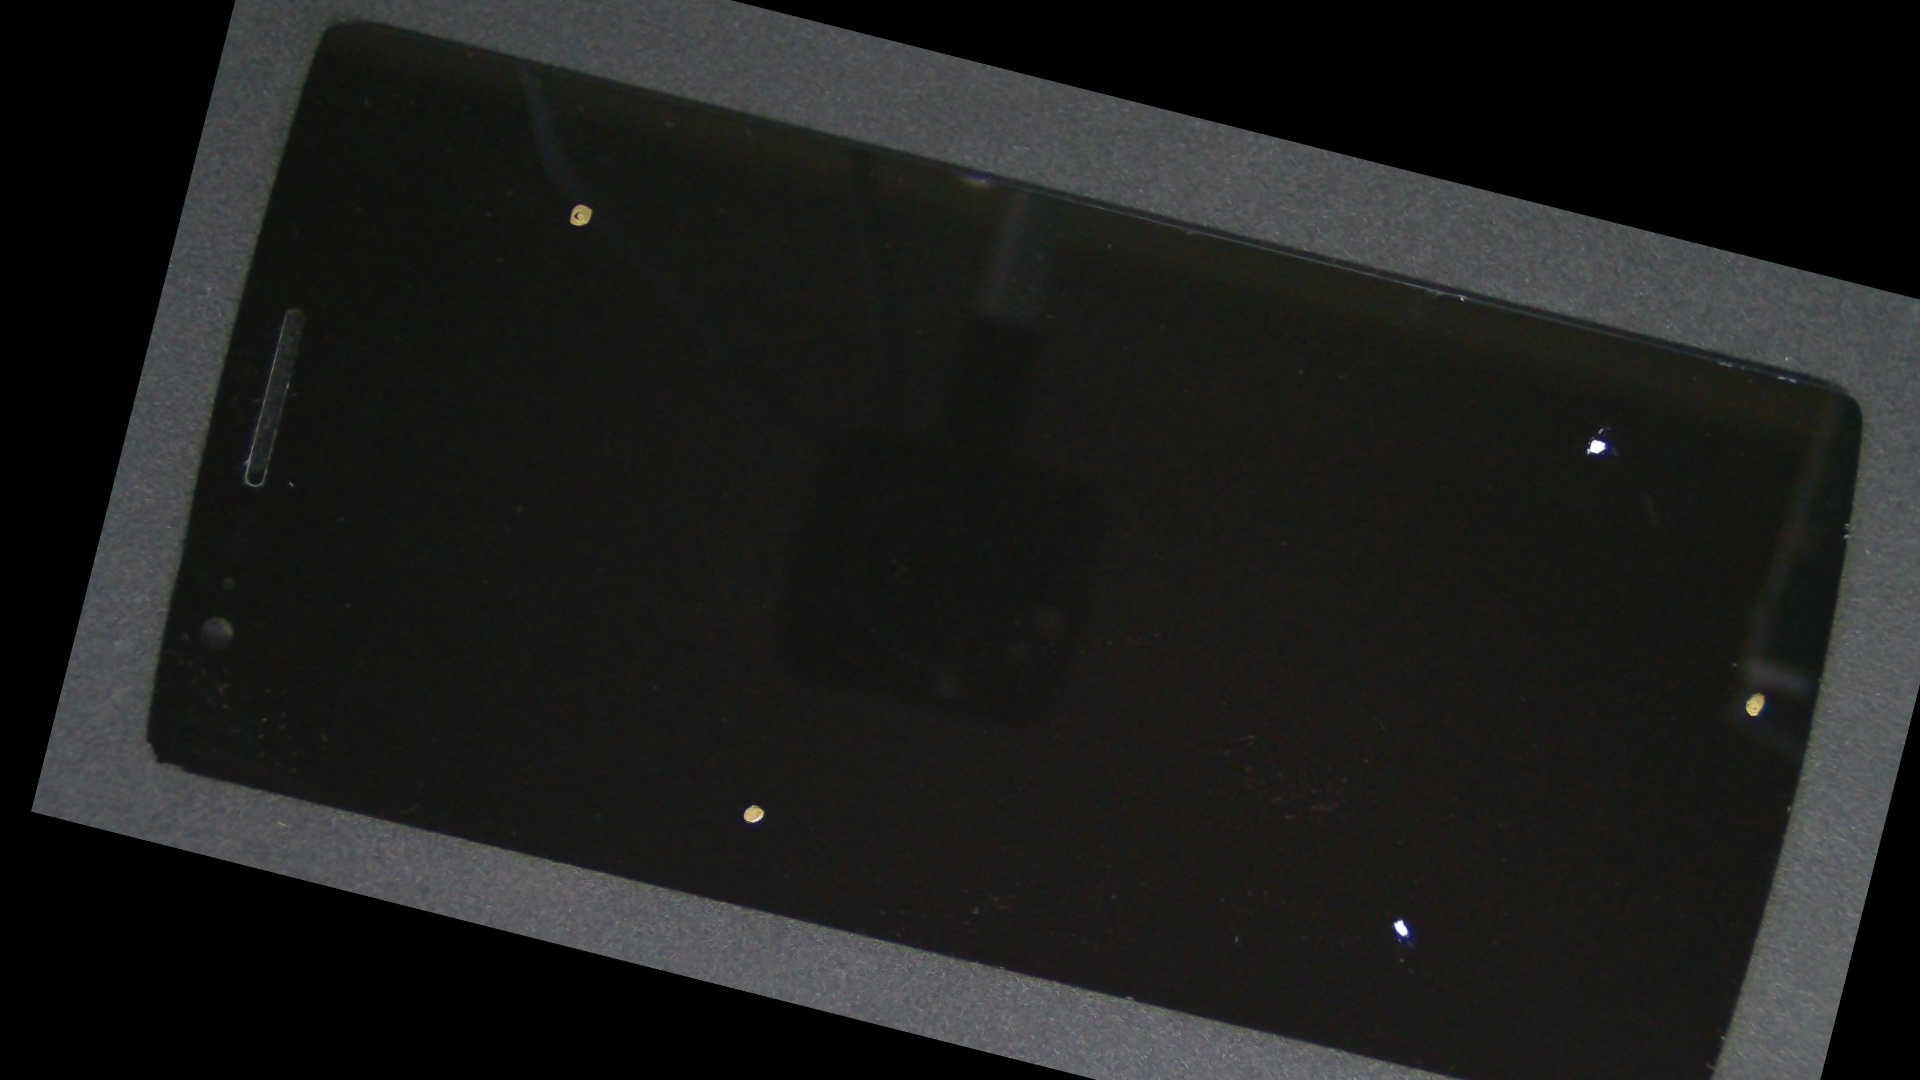oil: (688, 401, 1920, 1080), (910, 287, 1920, 934), (371, 343, 1187, 1067), (878, 158, 1920, 632), (886, 154, 1920, 616), (367, 42, 798, 364)
